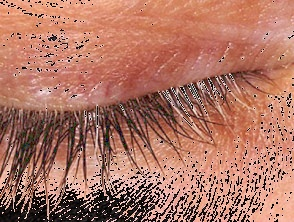vitiligo: (0, 8, 293, 202)
